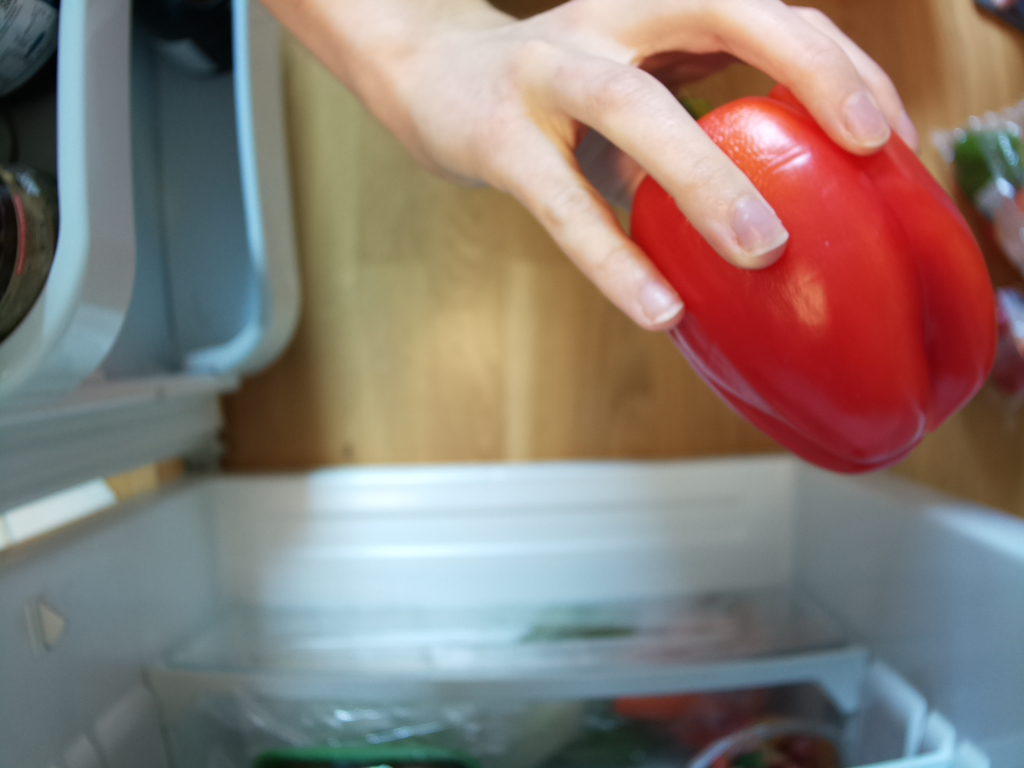pepper: (606, 72, 1001, 486)
